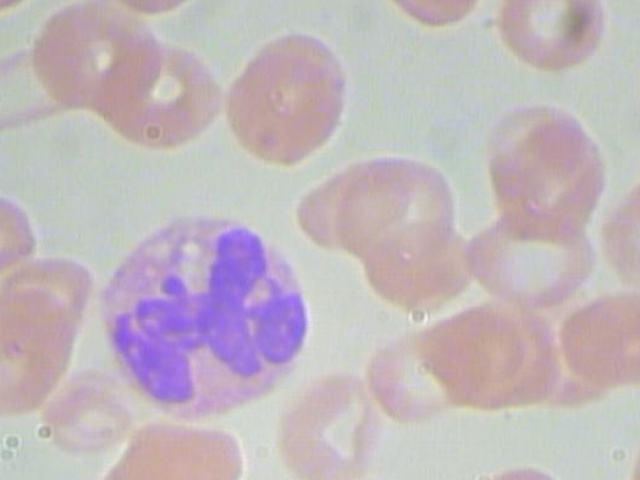RBC: (213, 25, 367, 166), (322, 151, 466, 275), (461, 192, 605, 316), (22, 0, 165, 111), (273, 369, 390, 480), (485, 0, 622, 79), (91, 417, 255, 480), (0, 190, 57, 322), (362, 0, 495, 37), (85, 0, 212, 15), (0, 350, 2, 465)
WBC: (79, 205, 331, 429)
